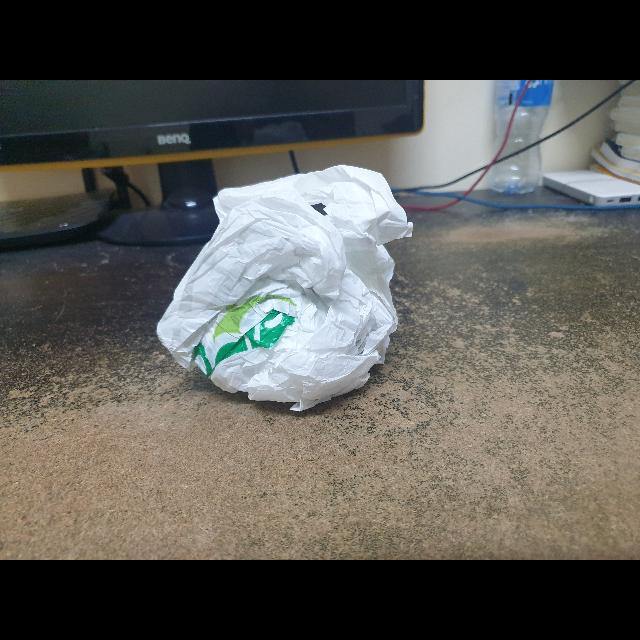plastic_bag: (151, 158, 425, 430)
